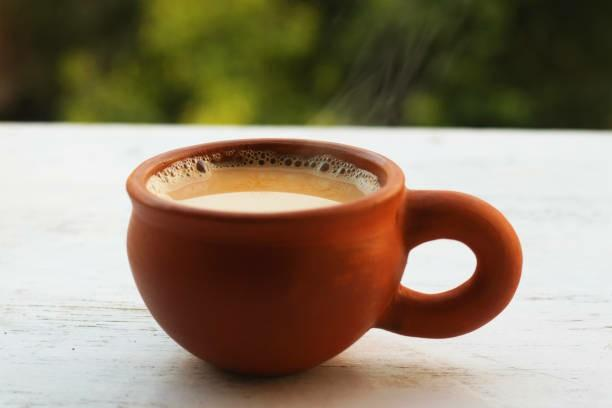Chai: (148, 144, 383, 212)
